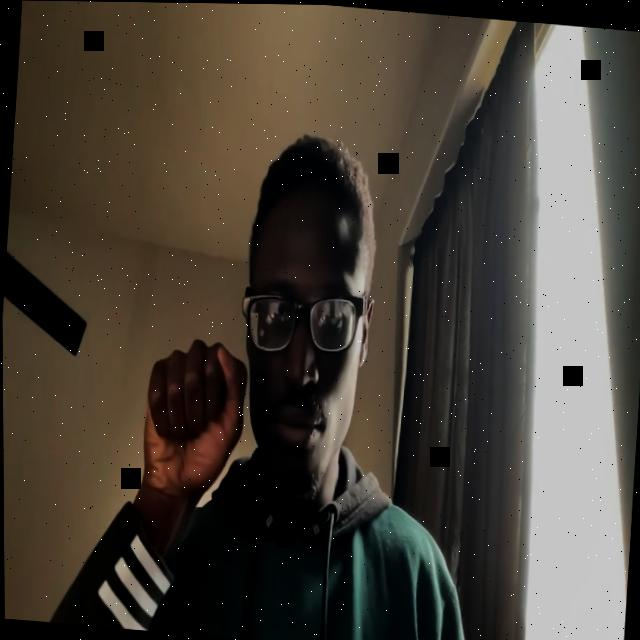Rock: (138, 337, 249, 498)
